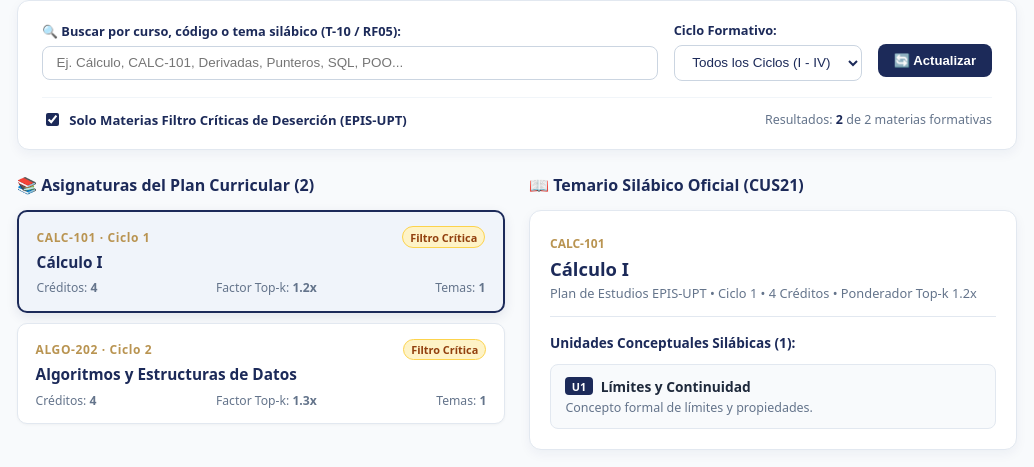
it: CurriculumCatalogView Component (T-09 / T-10 / CUS21 / RF05) › 2. Permite seleccionar una materia para ver su temario silábico
Click the heading "Algoritmos y Estructuras de Datos". click: coordinates (166, 375)
box: [36,364,297,385]
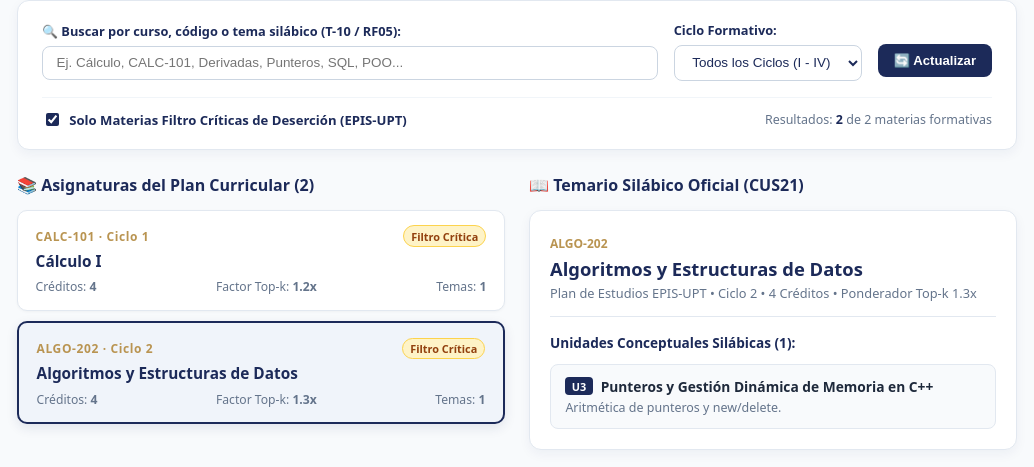
Expected: the text "Punteros y Gestión Dinámica de Memoria en C++" is shown, [601,377,933,396]
